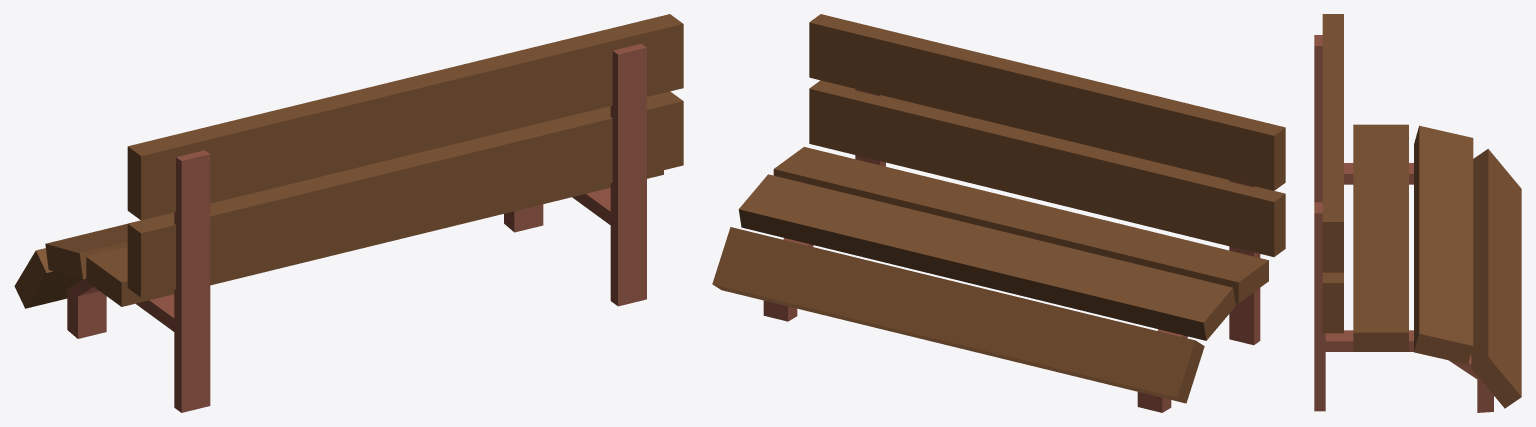
The model's file is geo_gardenChair_01.fbx.
3 renders of one model, left to right at view 1: azimuth 30°, elevation 25°; view 2: azimuth 150°, elevation 25°; view 3: azimuth 270°, elevation 25°, orthographic. The views are drawn at different scales.
Parts seen in each view (by area): view 1: geo_ChairPlank_02, geo_ChairPlank_01, geo_ChairBase_02, geo_ChairBase_01, geo_ChairPlank_03, geo_ChairPlank_04, geo_ChairPlank_05; view 2: geo_ChairPlank_02, geo_ChairPlank_01, geo_ChairPlank_05, geo_ChairPlank_04, geo_ChairPlank_03, geo_ChairBase_02, geo_ChairBase_01; view 3: geo_ChairPlank_04, geo_ChairPlank_03, geo_ChairPlank_05, geo_ChairPlank_02, geo_ChairBase_01, geo_ChairBase_02, geo_ChairPlank_01.
Boxes of the visible parts, x1,y1,x2,y2 form: geo_ChairPlank_02: (127,14,683,220); geo_ChairPlank_01: (127,91,683,297); geo_ChairBase_02: (67,150,210,412); geo_ChairBase_01: (504,43,646,306); geo_ChairPlank_03: (86,170,663,306); geo_ChairPlank_04: (45,224,127,279); geo_ChairPlank_05: (14,248,82,308); geo_ChairPlank_02: (809,14,1285,190); geo_ChairPlank_01: (809,80,1285,256); geo_ChairPlank_05: (712,227,1204,403); geo_ChairPlank_04: (738,174,1235,340); geo_ChairPlank_03: (773,147,1268,303); geo_ChairBase_02: (1137,180,1260,412); geo_ChairBase_01: (763,89,885,321); geo_ChairPlank_04: (1414,125,1473,364); geo_ChairPlank_03: (1353,124,1408,351); geo_ChairPlank_05: (1471,149,1521,408); geo_ChairPlank_02: (1322,14,1343,272); geo_ChairBase_01: (1314,202,1493,412); geo_ChairBase_02: (1314,35,1413,202); geo_ChairPlank_01: (1322,272,1343,333).
Bounding box in the file's own units: 77.18 × 35.81 × 32.54.
